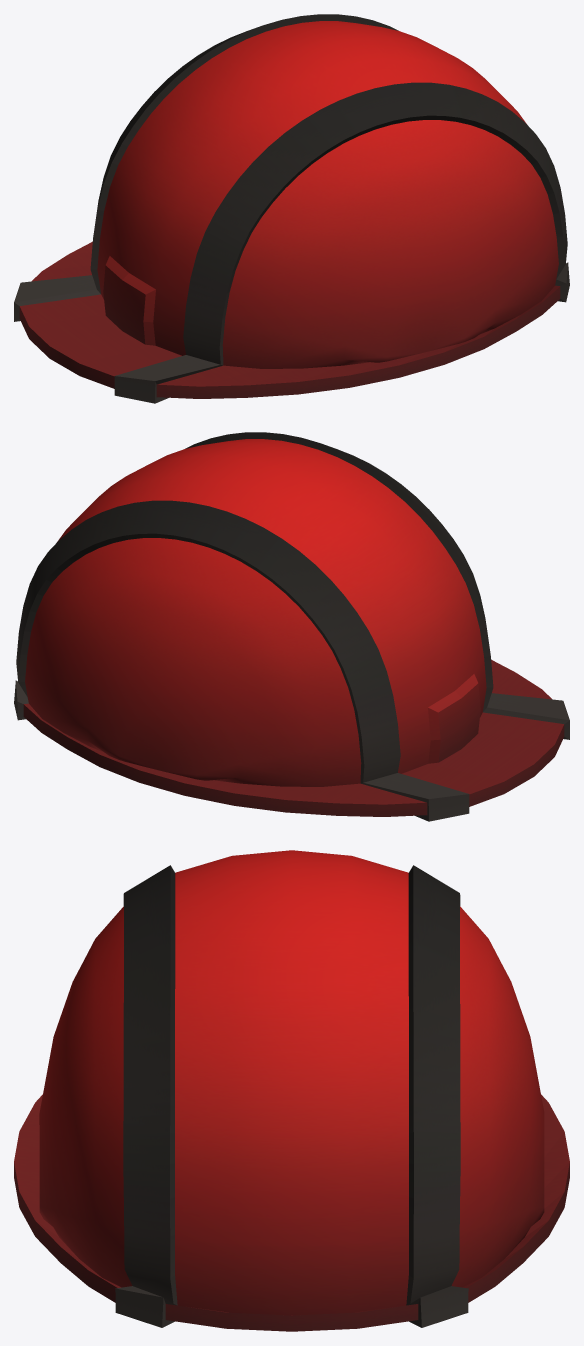
Rendered from Helmet.FBX.
The picture shows the model from 3 angles, top to bottom: view 1: azimuth 30°, elevation 25°; view 2: azimuth 150°, elevation 25°; view 3: azimuth 270°, elevation 25°; orthographic projection. The views are drawn at different scales.
Visible parts, largest first — view 1: Helmet; view 2: Helmet; view 3: Helmet.
Part boxes in pixels (<box>): Helmet: <box>14,14,569,403</box>; Helmet: <box>14,432,569,821</box>; Helmet: <box>14,850,569,1331</box>.
Size of the model in its own units: 0.407 by 0.2018 by 0.3106.
1 material, 1 textured.
